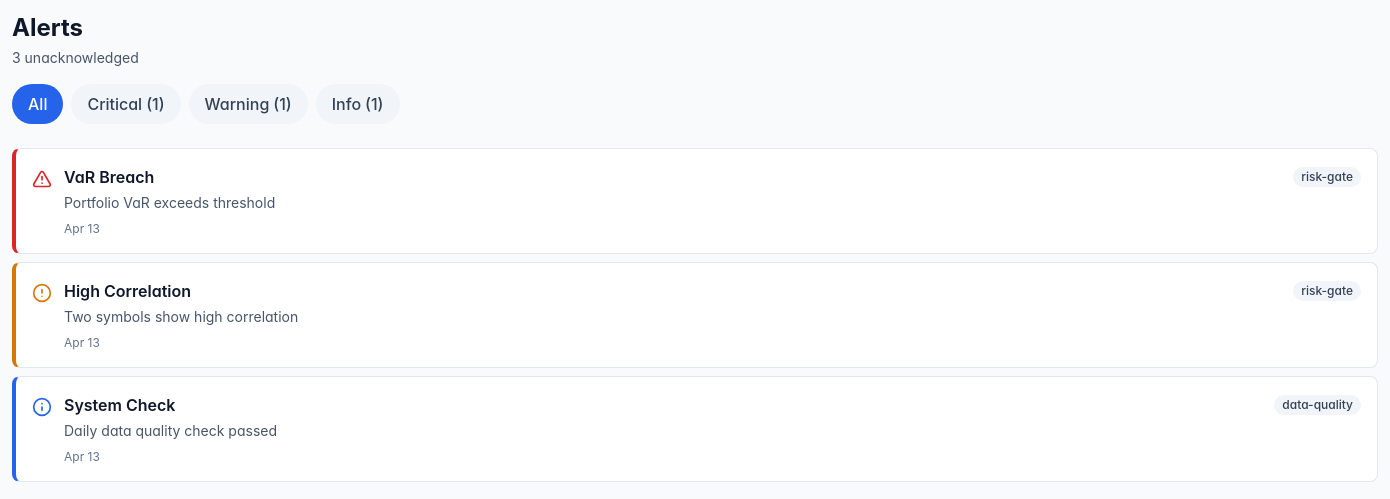
Test: AlertsPage › filter chips › filters alerts by warning severity
Note: Wait for alerts to render
What coordinates should you click on to do the following:
click the button "warning(1)"
I would click on:
 (248, 104)
Its box is [189,84,308,124].
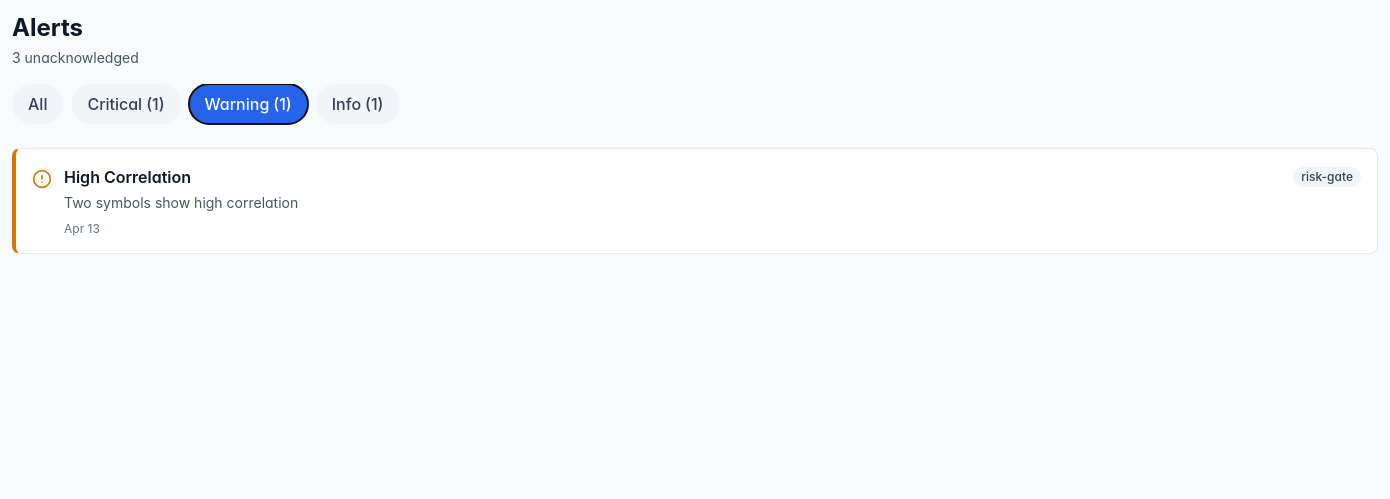
Expected: the heading "High Correlation" is shown, [64,165,191,189]
Expected: the button "VaR Breach" is gone
